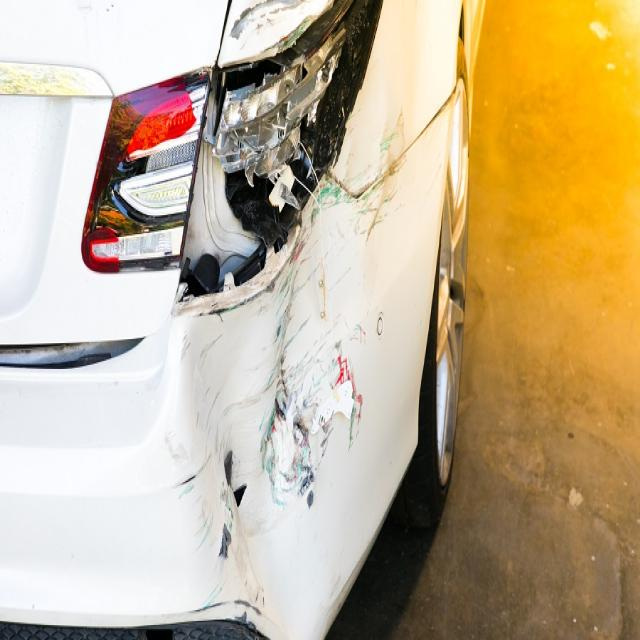Head Light: (107, 77, 350, 283)
